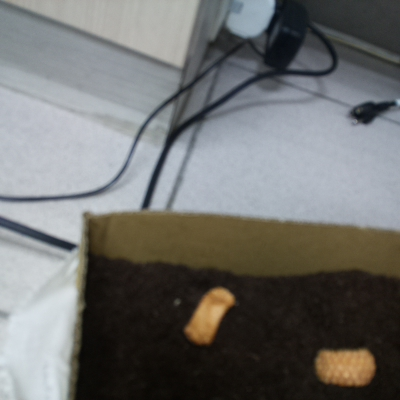eggs: (173, 279, 239, 347), (310, 341, 379, 390)
